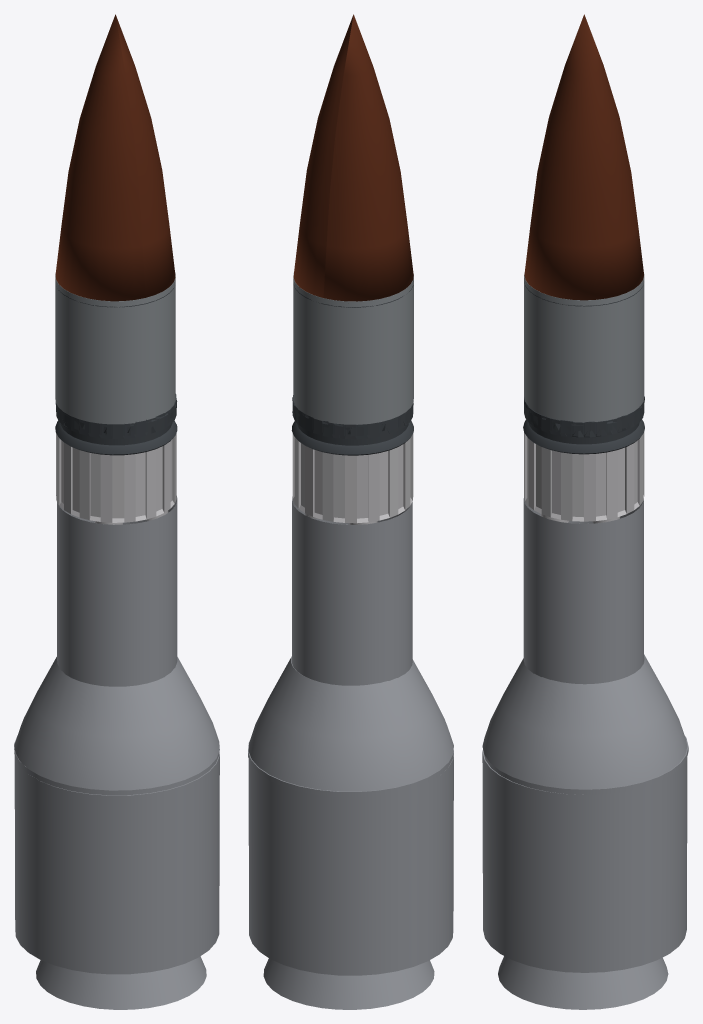
The model's file is ICBM.fbx.
The picture shows the model from 3 angles, left to right: view 1: azimuth 30°, elevation 25°; view 2: azimuth 150°, elevation 25°; view 3: azimuth 270°, elevation 25°; orthographic projection.
Parts seen in each view (by area): view 1: Stage_1, Stage_2, Shroud -x, PostBoostVehicle, Stage_3, Shroud x; view 2: Stage_1, Stage_2, Shroud -x, PostBoostVehicle, Stage_3, Shroud x; view 3: Stage_1, Shroud x, Stage_2, PostBoostVehicle, Stage_3.
Part boxes in pixels (left/top/right/bottom): Stage_1: left=14, top=657, right=219, bottom=1009; Stage_2: left=57, top=496, right=177, bottom=686; Shroud -x: left=55, top=14, right=145, bottom=301; PostBoostVehicle: left=55, top=272, right=175, bottom=424; Stage_3: left=55, top=394, right=177, bottom=524; Shroud x: left=115, top=15, right=175, bottom=297; Stage_1: left=248, top=656, right=453, bottom=1009; Stage_2: left=292, top=496, right=412, bottom=685; Shroud -x: left=323, top=14, right=413, bottom=301; PostBoostVehicle: left=293, top=273, right=413, bottom=424; Stage_3: left=291, top=395, right=413, bottom=524; Shroud x: left=293, top=15, right=353, bottom=297; Stage_1: left=482, top=654, right=688, bottom=1009; Shroud x: left=524, top=14, right=643, bottom=300; Stage_2: left=523, top=497, right=643, bottom=684; PostBoostVehicle: left=524, top=273, right=644, bottom=422; Stage_3: left=523, top=396, right=644, bottom=523.
Size of the model in its own units: 283 by 1458 by 284.
